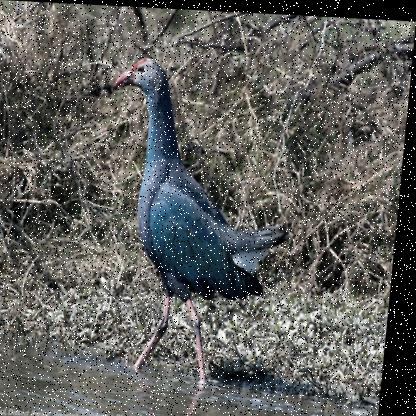Burung: (92, 50, 309, 377)
